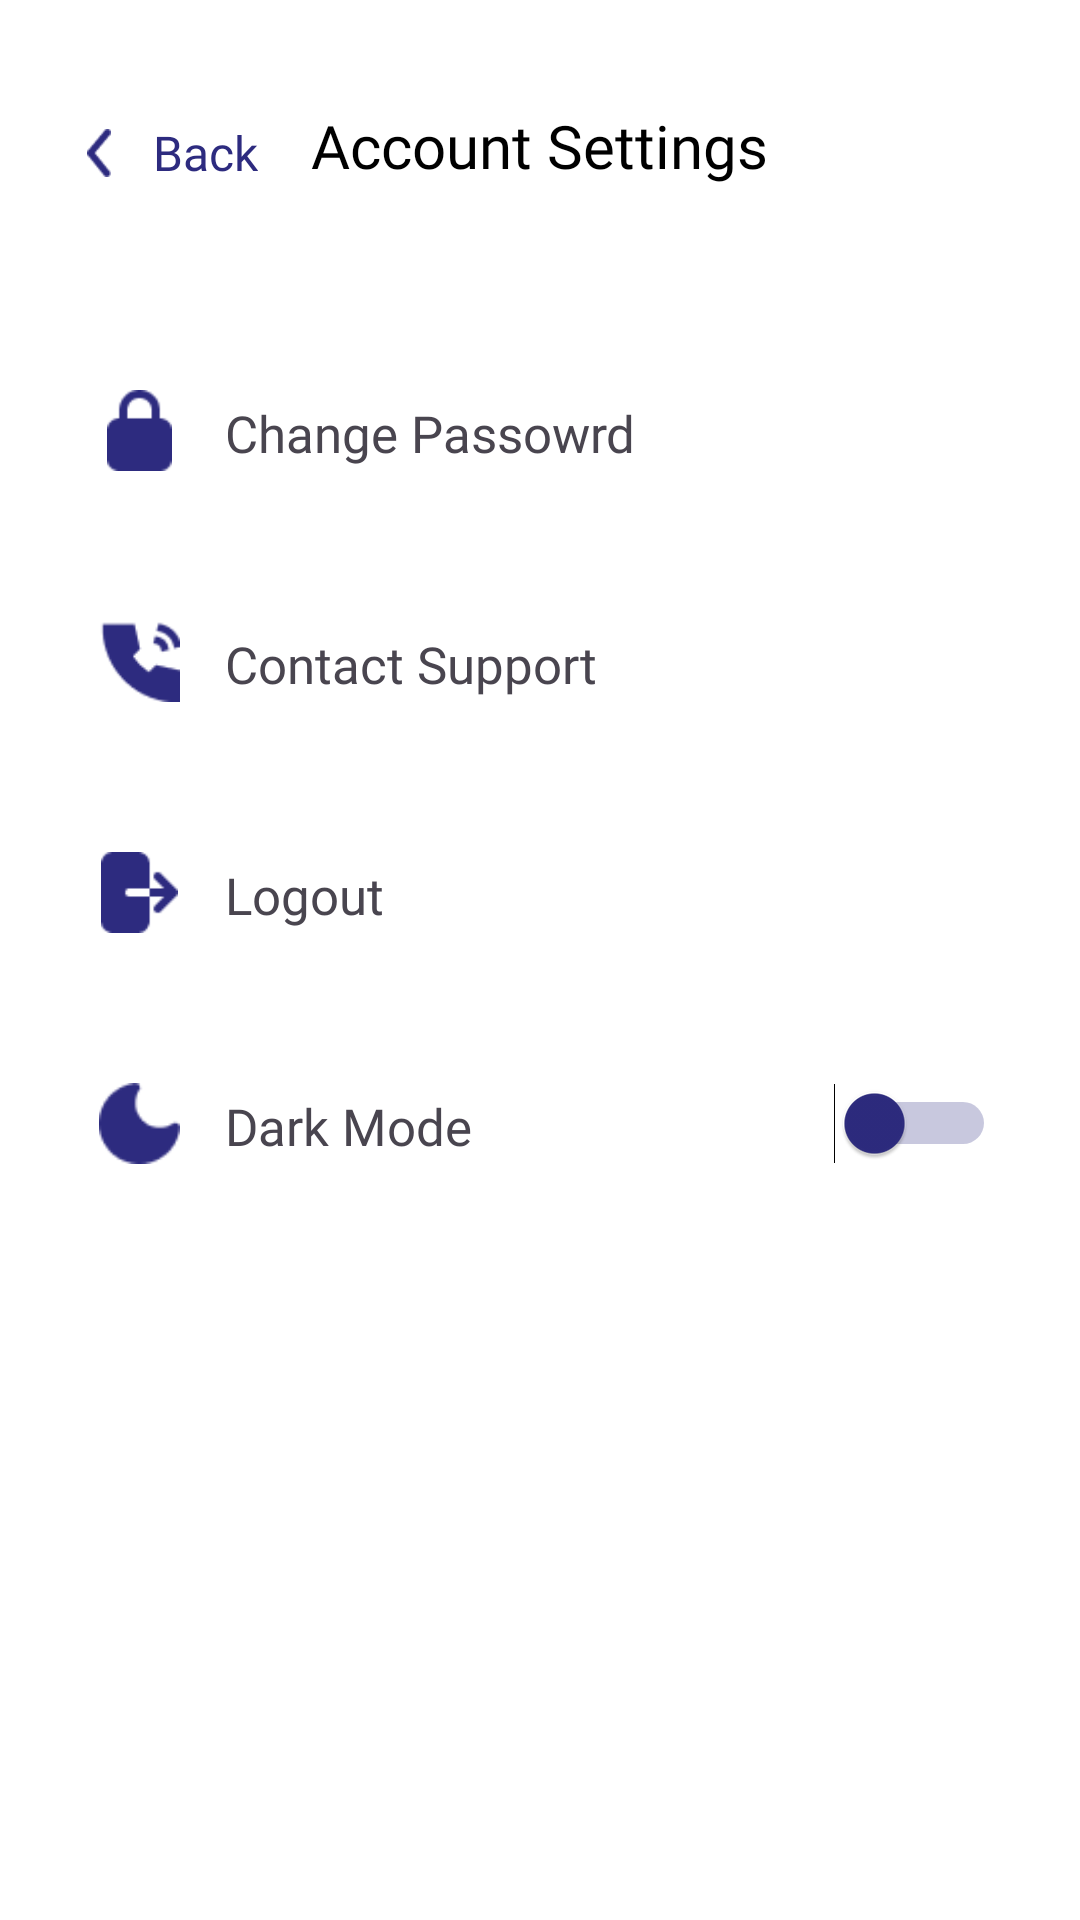

Where icons sit on this 1080×1920 app screen, as rect(x1, y1, x2, y2):
customer support: rect(102, 623, 180, 702)
lock: rect(107, 390, 172, 471)
night mode: rect(99, 1083, 180, 1164)
